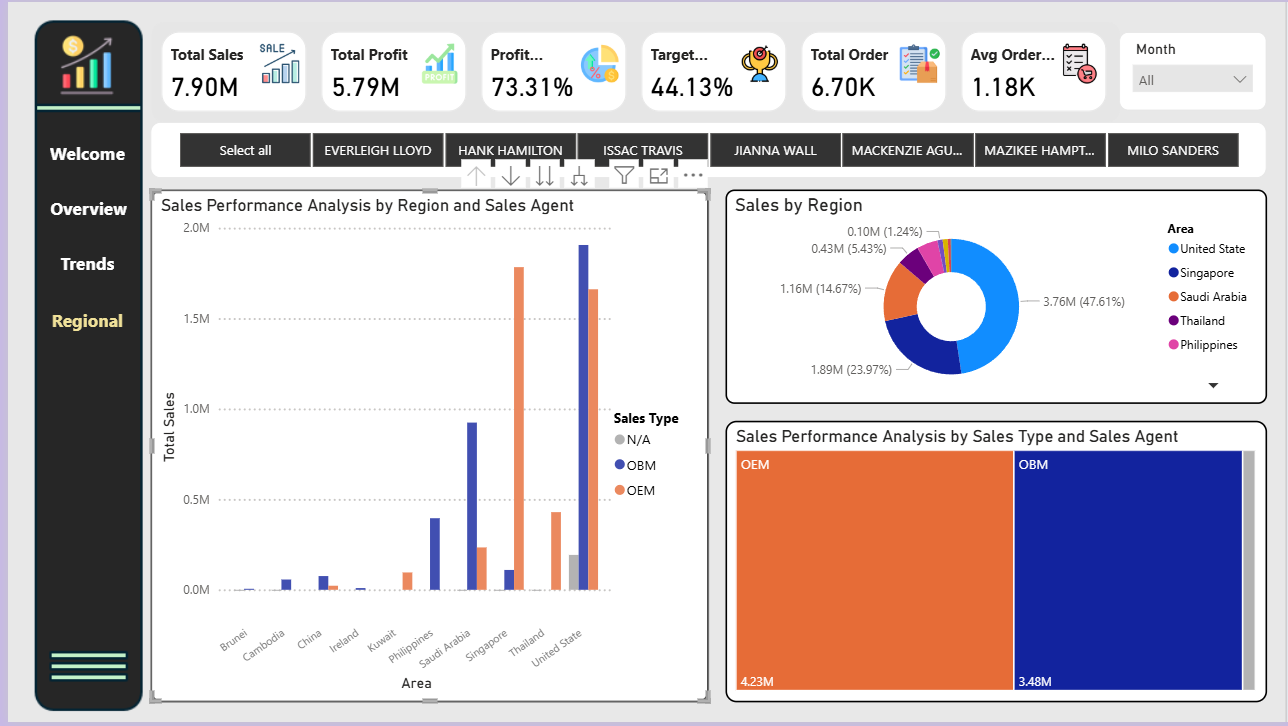

Layout of this report page (visuals, bound fields, positions):
{"tool":"powerbi","page":{"name":"Regional & Product Drill Down","canvas":[1280,720],"ordinal":3},"visuals":[{"type":"cardVisual","fields":{"Data":["Measure (DAX).Total Sales","Measure (DAX).Total Profit","Measure (DAX).Profit Margin %","Measure (DAX).Target Achievement %","Measure (DAX).Total Order","Measure (DAX).Avg Order Value"]},"box":[143.3,20,968.3,100],"z":0},{"type":"slicer","fields":{"Values":["Calendar.Date.Variation.Date Hierarchy.Month"]},"box":[1111.4,30,147.1,78.6],"z":1000},{"type":"slicer","fields":{"Values":["Sales Target.Sales Agent"]},"box":[142.9,120,1115.7,55.7],"z":2000},{"type":"donutChart","title":"Sales by Region","fields":{"Category":["Sales.Area"],"Y":["Sum(Sales.Local Subtotal)"]},"box":[717.1,187.1,541.4,214.3],"z":3000},{"type":"clusteredColumnChart","title":"Sales Performance Analysis by Region and Sales Agent","fields":{"Y":["Measure (DAX).Total Sales"],"Category":["Sales.Area","Sales.Sales Agent"],"Series":["Sales.Sales Type"]},"box":[142.9,187.1,558.6,512.9],"z":4000},{"type":"treemap","title":"Sales Performance Analysis by Sales Type and Sales Agent","fields":{"Group":["Sales.Sales Type","Sales.Sales Agent"],"Values":["Measure (DAX).Total Sales"]},"box":[717.1,418.6,541.4,281.4],"z":5000},{"type":"actionButton","box":[22.5,186.2,116.2,38.8],"z":6000},{"type":"actionButton","box":[21.2,241.2,116.2,38.8],"z":7000},{"type":"actionButton","box":[21.2,298.8,116.2,38.8],"z":8000},{"type":"actionButton","box":[21.2,131.2,116.2,38.8],"z":9000}]}

Visuals, with their boxes on the page's 1280x720 design canvas (x1, y1, x2, y2). These are canvas units, not pixel positions in the 1288x726 screenshot, which may show the page scaled, cropped or inside an application window:
cardVisual - Measure (DAX).Total Sales x Measure (DAX).Total Profit: [143, 20, 1112, 120]
slicer - Calendar.Date.Variation.Date Hierarchy.Month: [1111, 30, 1258, 109]
slicer - Sales Target.Sales Agent: [143, 120, 1259, 176]
"Sales by Region" donutChart: [717, 187, 1258, 401]
"Sales Performance Analysis by Region and Sales Agent" clusteredColumnChart: [143, 187, 702, 700]
"Sales Performance Analysis by Sales Type and Sales Agent" treemap: [717, 419, 1258, 700]
actionButton: [22, 186, 139, 225]
actionButton: [21, 241, 137, 280]
actionButton: [21, 299, 137, 338]
actionButton: [21, 131, 137, 170]
